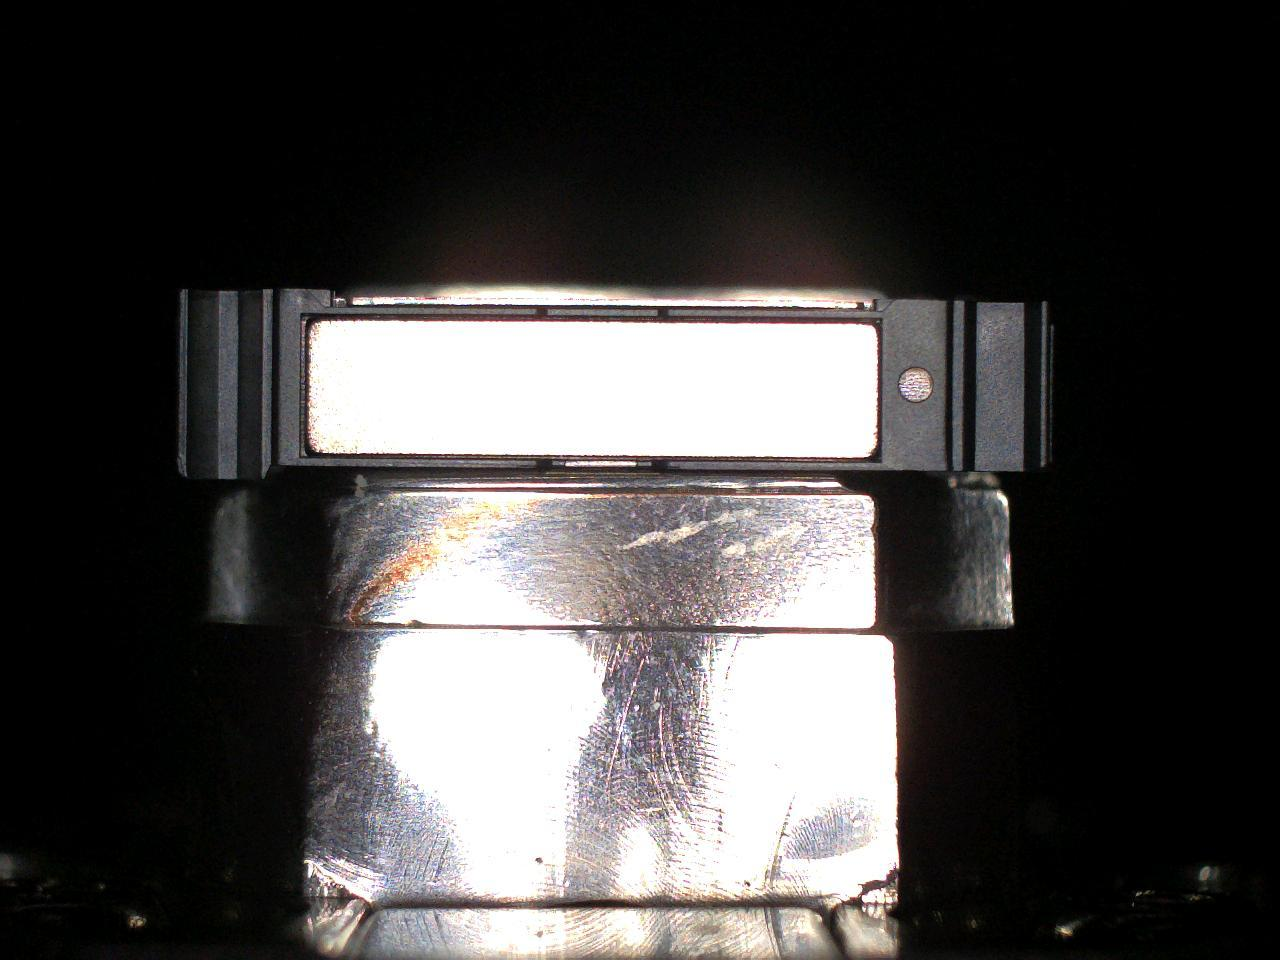frame: (178, 290, 1051, 479)
gap: (308, 453, 538, 461), (309, 314, 536, 322), (670, 456, 881, 463), (669, 317, 879, 324), (548, 316, 657, 323), (550, 455, 652, 461)
magnetic: (308, 321, 879, 457)
